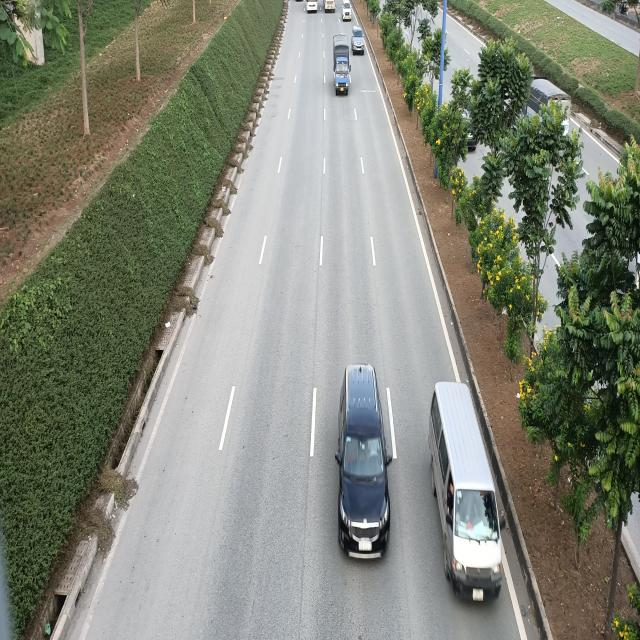car: (335, 362, 392, 556), (352, 26, 365, 54)
truck: (334, 36, 352, 96)
van: (427, 383, 505, 605)
